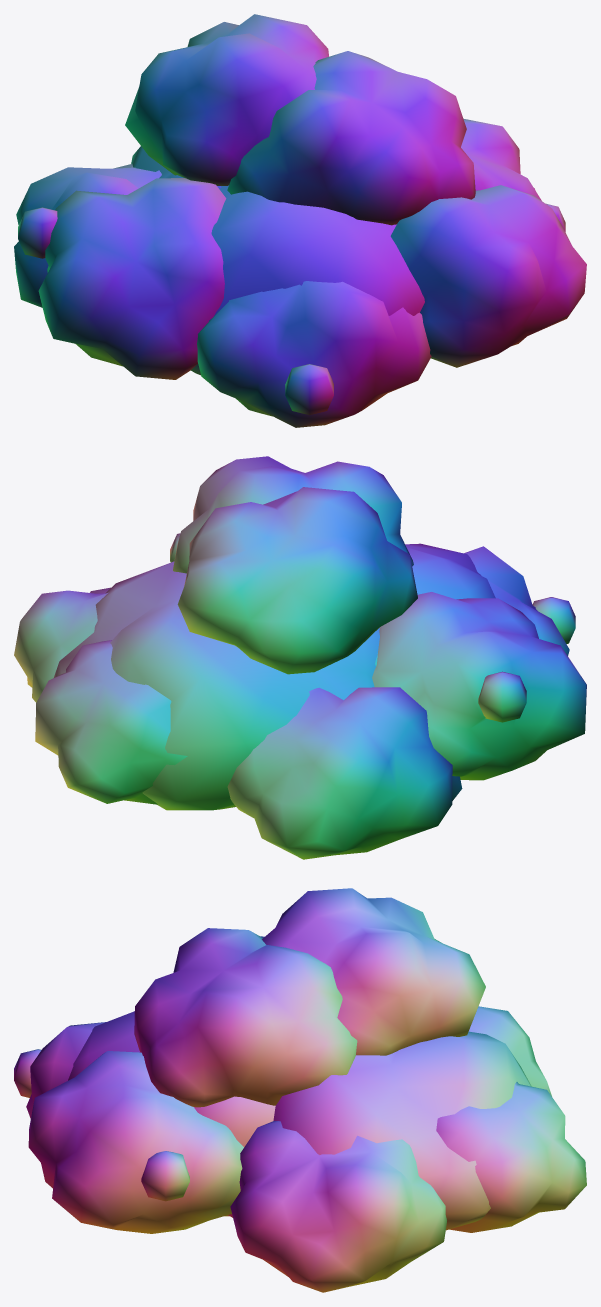
The model's file is SM_Foliage_Plains_BerryBush_A.fbx.
3 renders of one model, top to bottom at view 1: azimuth 30°, elevation 25°; view 2: azimuth 150°, elevation 25°; view 3: azimuth 270°, elevation 25°, orthographic.
Parts seen in each view (by area): view 1: SM_Foliage_Plains_BerryBush_A; view 2: SM_Foliage_Plains_BerryBush_A; view 3: SM_Foliage_Plains_BerryBush_A.
Boxes of the visible parts, left/top/right/bottom form: SM_Foliage_Plains_BerryBush_A: left=14, top=14, right=586, bottom=427; SM_Foliage_Plains_BerryBush_A: left=14, top=456, right=586, bottom=859; SM_Foliage_Plains_BerryBush_A: left=14, top=888, right=586, bottom=1292.
Size of the model in its own units: 1.15 by 0.6326 by 1.1.
